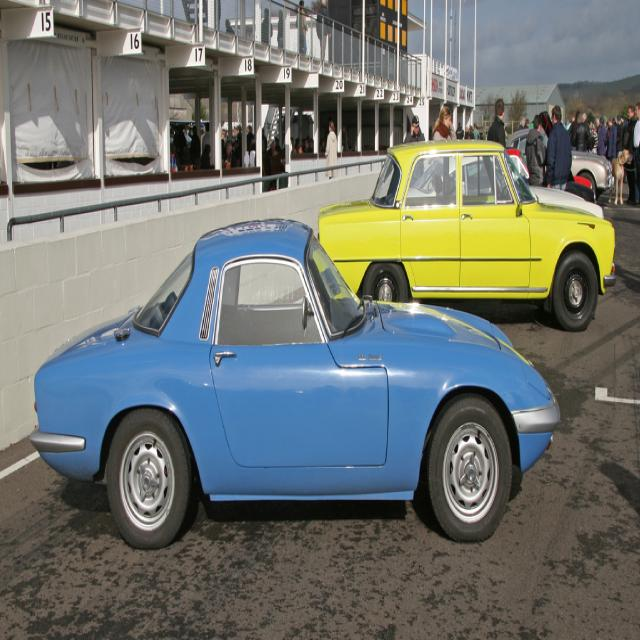car: (19, 227, 537, 537)
